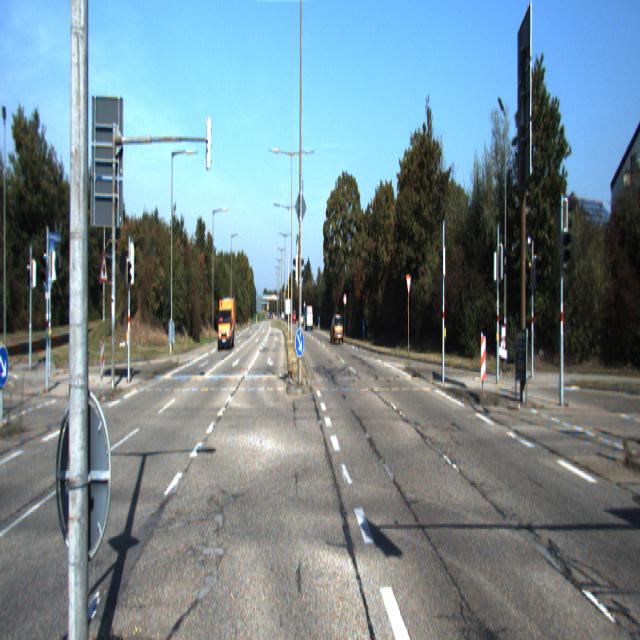Car: (216, 297, 237, 353), (329, 314, 344, 345)
